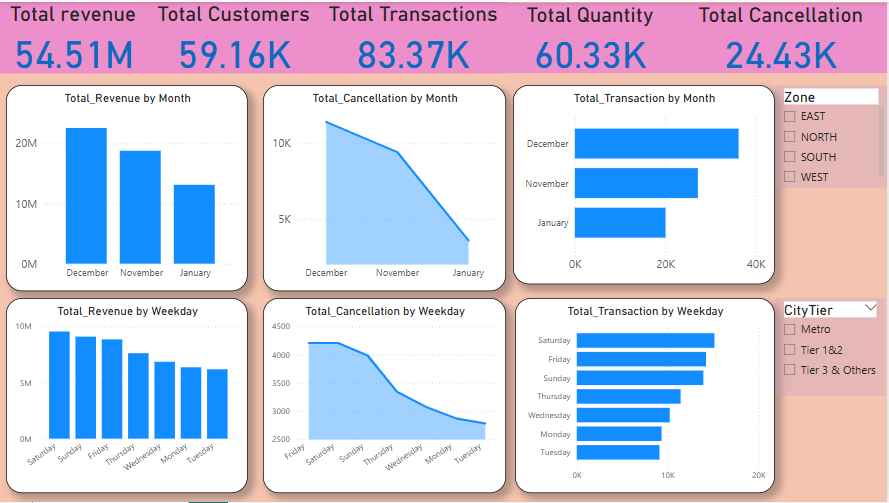

The dashboard page shown, as its layout file describes it:
{"tool":"powerbi","page":{"name":"Retail shop Overview","canvas":[1280,720],"ordinal":0},"visuals":[{"type":"card","title":"Total revenue","fields":{"Values":["Sales Raw.Total_Revenue"]},"box":[0,0,213,102.9],"z":0},{"type":"card","title":"Total Quantity","fields":{"Values":["Sales Raw.Total_Quantity"]},"box":[730.4,1.4,242,101.4],"z":1000},{"type":"card","title":"Total Customers","fields":{"Values":["Sales Raw.Total_Customer"]},"box":[213,0,249.3,102.9],"z":2000},{"type":"card","title":"Total Cancellation","fields":{"Values":["Sales Raw.Total_Cancellation"]},"box":[972.5,1.4,307.2,101.4],"z":3000},{"type":"card","title":"Total Transactions","fields":{"Values":["Sales Raw.Total_Transaction"]},"box":[462.3,0,268.1,102.9],"z":4000},{"type":"clusteredColumnChart","fields":{"Category":["Date Table.Month"],"Y":["Sales Raw.Total_Revenue"]},"box":[10.1,119.5,348.5,296.6],"z":5000},{"type":"clusteredColumnChart","fields":{"Y":["Sales Raw.Total_Revenue"],"Category":["Date Table.Weekday"]},"box":[10.1,426.2,348.5,280.8],"z":6000},{"type":"stackedAreaChart","fields":{"Category":["Date Table.Month"],"Y":["Sales Raw.Total_Cancellation"]},"box":[380.2,119.5,349.9,296.6],"z":7000},{"type":"stackedAreaChart","fields":{"Y":["Sales Raw.Total_Cancellation"],"Category":["Date Table.Weekday"]},"box":[380.2,426.2,349.9,280.8],"z":8000},{"type":"barChart","fields":{"Y":["Sales Raw.Total_Transaction"],"Category":["Date Table.Month"]},"box":[740.6,118.8,376.8,287],"z":9000},{"type":"clusteredBarChart","fields":{"Y":["Sales Raw.Total_Transaction"],"Category":["Date Table.Weekday"]},"box":[743.5,426.1,373.9,281.2],"z":10000},{"type":"slicer","fields":{"Values":["PinCode-Geo.Zone"]},"box":[1117.4,118.8,162.3,149.3],"z":11000},{"type":"slicer","fields":{"Values":["Mod3_Raw_CityTier_v0 1.CityTier"]},"box":[1117.4,426.1,159.4,140.6],"z":12000}]}

Visuals, with their boxes in screenshot pixels (x1, y1, x2, y2), scaled from the page's 1280x720 canvas onto the 889x503 screenshot:
"Total revenue" card: {"x1": 0, "y1": 0, "x2": 148, "y2": 72}
"Total Quantity" card: {"x1": 507, "y1": 1, "x2": 675, "y2": 72}
"Total Customers" card: {"x1": 148, "y1": 0, "x2": 321, "y2": 72}
"Total Cancellation" card: {"x1": 675, "y1": 1, "x2": 888, "y2": 72}
"Total Transactions" card: {"x1": 321, "y1": 0, "x2": 507, "y2": 72}
clusteredColumnChart - Date Table.Month x Sales Raw.Total_Revenue: {"x1": 7, "y1": 83, "x2": 249, "y2": 291}
clusteredColumnChart - Sales Raw.Total_Revenue x Date Table.Weekday: {"x1": 7, "y1": 298, "x2": 249, "y2": 494}
stackedAreaChart - Date Table.Month x Sales Raw.Total_Cancellation: {"x1": 264, "y1": 83, "x2": 507, "y2": 291}
stackedAreaChart - Sales Raw.Total_Cancellation x Date Table.Weekday: {"x1": 264, "y1": 298, "x2": 507, "y2": 494}
barChart - Sales Raw.Total_Transaction x Date Table.Month: {"x1": 514, "y1": 83, "x2": 776, "y2": 283}
clusteredBarChart - Sales Raw.Total_Transaction x Date Table.Weekday: {"x1": 516, "y1": 298, "x2": 776, "y2": 494}
slicer - PinCode-Geo.Zone: {"x1": 776, "y1": 83, "x2": 888, "y2": 187}
slicer - Mod3_Raw_CityTier_v0 1.CityTier: {"x1": 776, "y1": 298, "x2": 887, "y2": 396}
